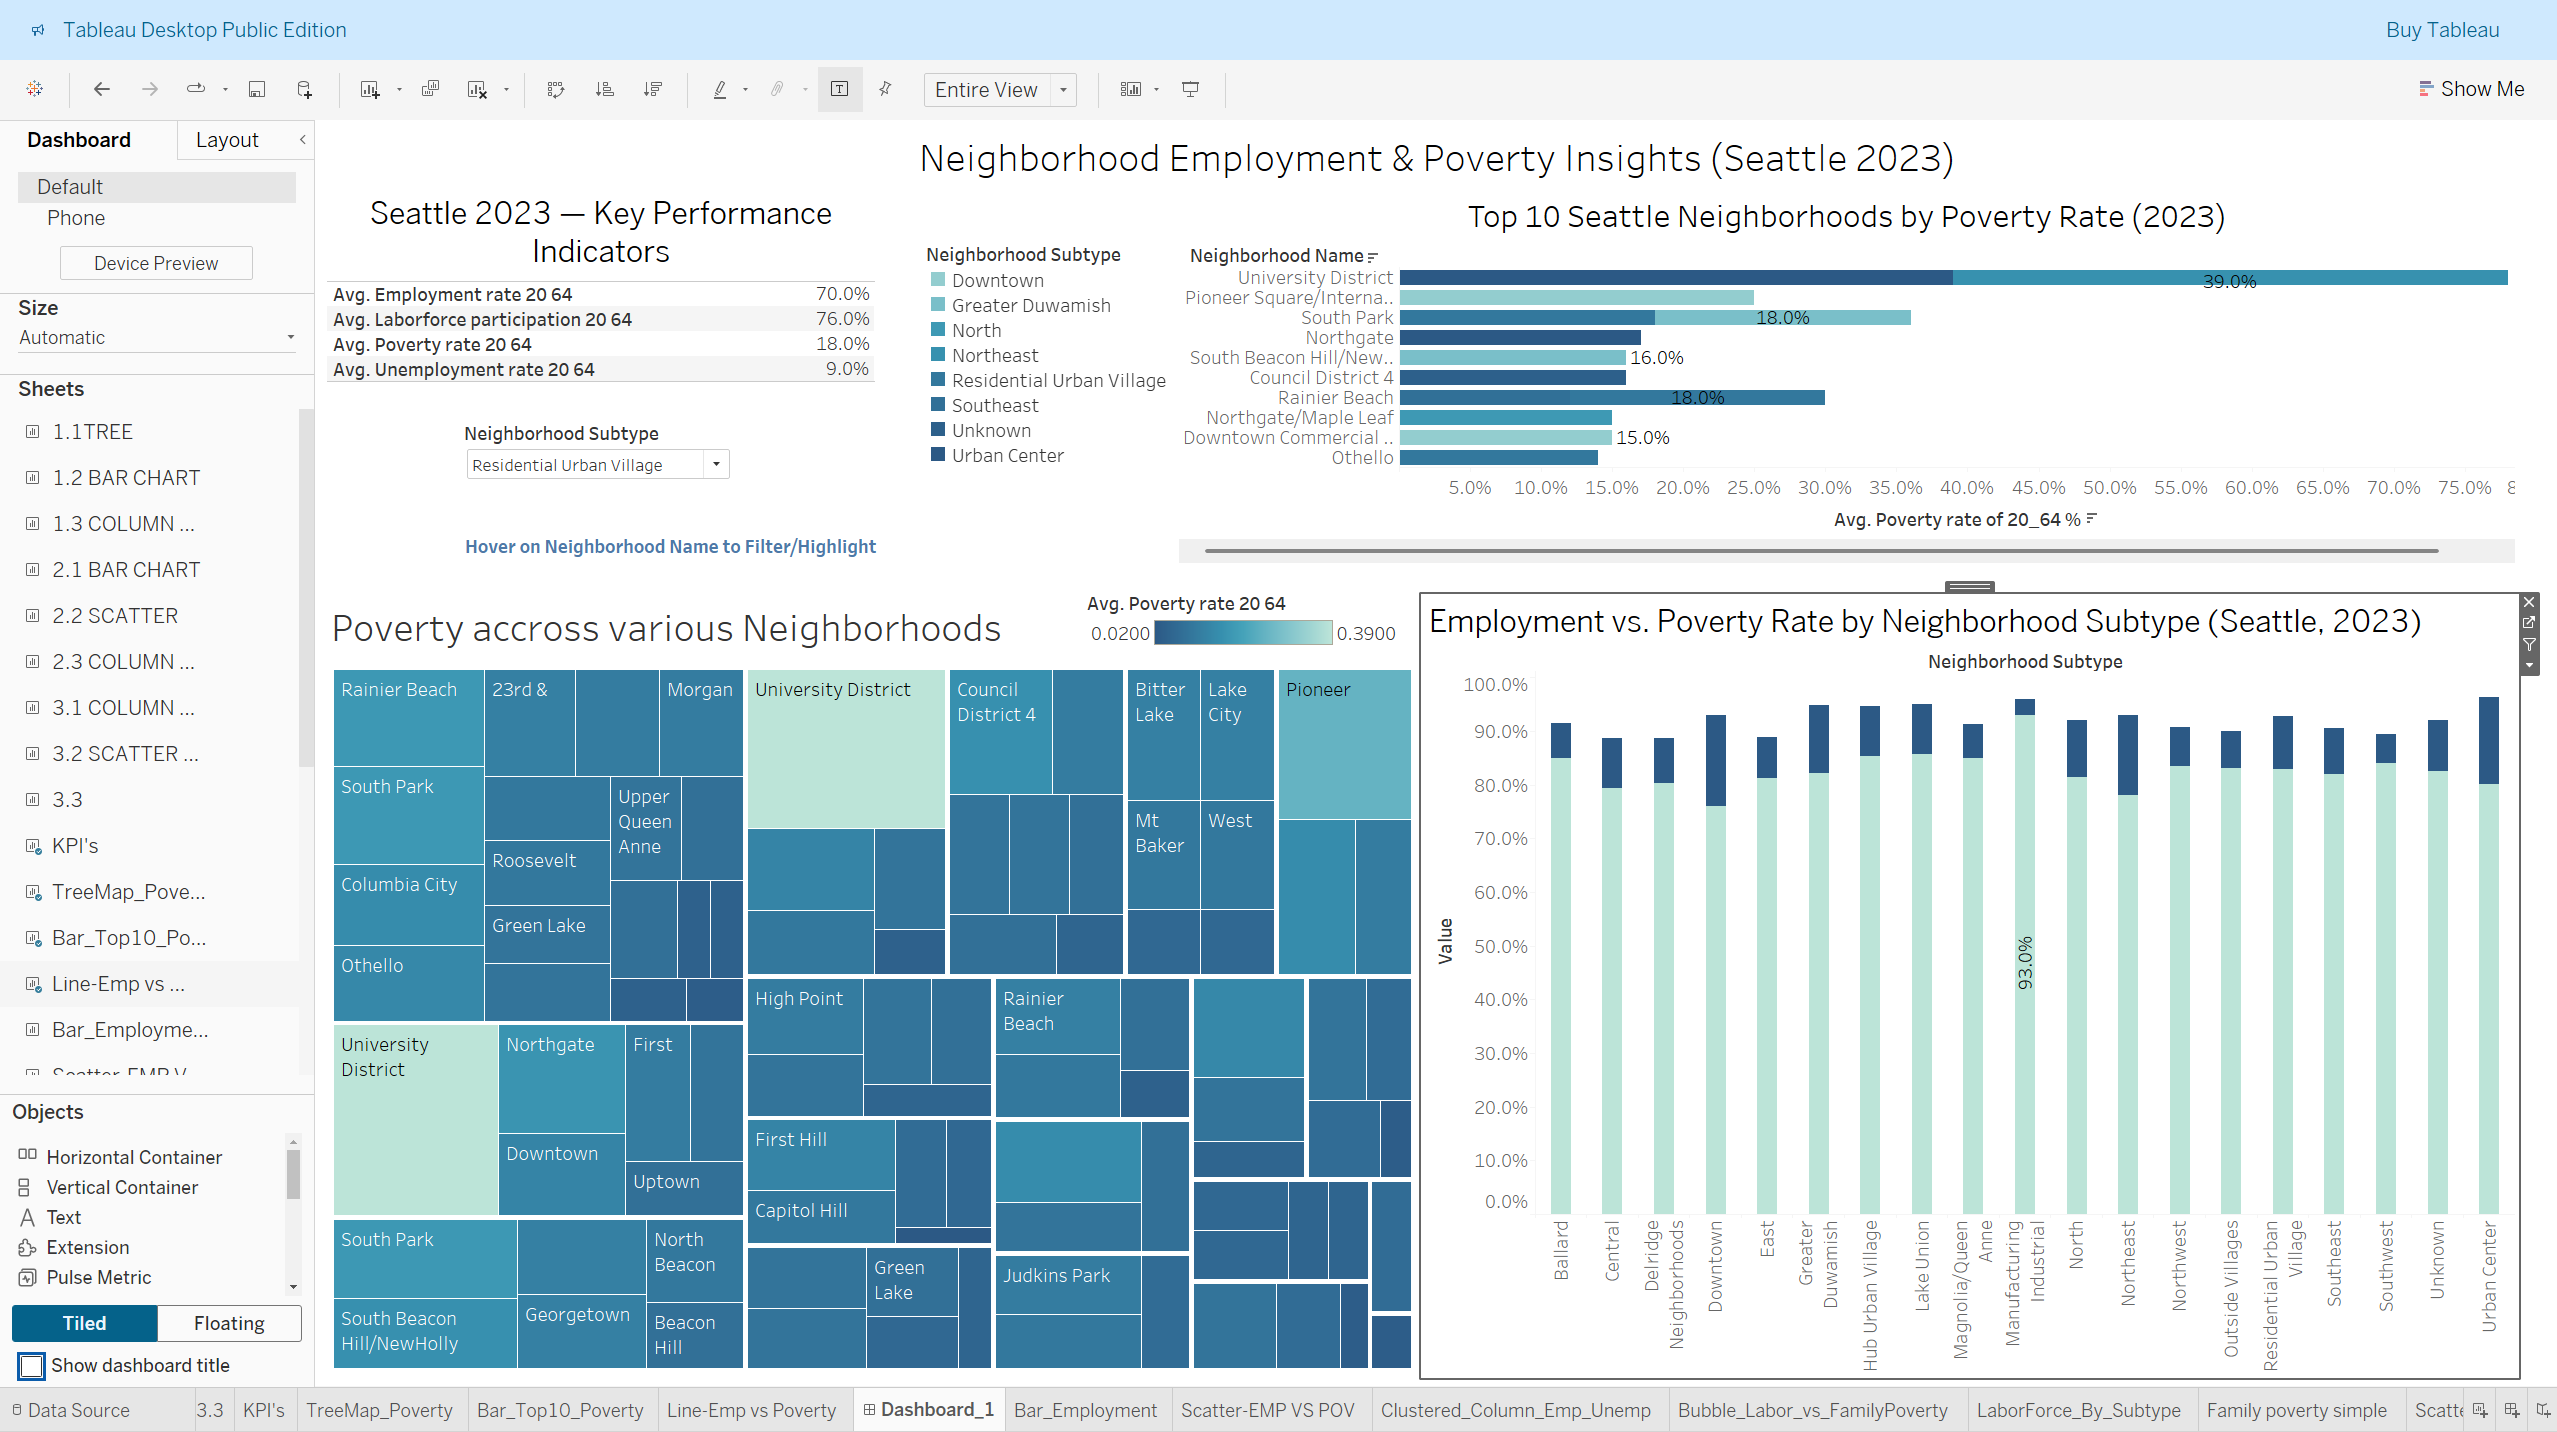

This screenshot's page, from the dashboard's own definition file:
{"tool":"tableau","page":{"name":"Dashboard_1","canvas":[1000,1000],"units":"permille","ordinal":0},"visuals":[{"type":"title","box":[3.9,6.3,976.6,45.8]},{"type":"worksheet","title":"KPI's","mark":"Text","box":[3.9,52.1,378.8,322.3]},{"type":"worksheet","title":"Bar_Top10_Poverty","mark":"Bar","rows":["Neighborhood Name"],"cols":["Poverty_rate_20_64"],"box":[382.7,52.1,597.8,322.3]},{"type":"legend","title":"Bar_Top10_Poverty","param":"[federated.032xgio0byku2z1ev66fd0881gxh].[none:Neighborhood Subtype:nk]","box":[272.3,95.6,110.4,178.5]},{"type":"filter","title":"KPI's","param":"[federated.032xgio0byku2z1ev66fd0881gxh].[none:Neighborhood Subtype:nk]","box":[66.4,237,119.8,177.7]},{"type":"text","box":[65,313.6,192,45.8]},{"type":"legend","title":"TreeMap_Poverty","param":"[federated.032xgio0byku2z1ev66fd0881gxh].[avg:Poverty_rate_20_64:qk]","box":[344.1,371.2,140.1,94]},{"type":"worksheet","title":"TreeMap_Poverty","mark":"Automatic","box":[3.9,374.4,488.3,619.3]},{"type":"worksheet","title":"Line-Emp vs Poverty","mark":"Bar","cols":["Neighborhood Subtype"],"box":[492.2,374.4,488.3,619.3]}]}

Visuals, with their boxes on the dashboard's canvas, which has no fixed pixel size, in thousandths of its width and height (x1, y1, x2, y2). These are canvas units, not pixel positions in the 2557x1432 screenshot, which may show the page scaled, cropped or inside an application window:
title: crop(4, 6, 980, 52)
"KPI's" worksheet (Text marks): crop(4, 52, 383, 374)
"Bar_Top10_Poverty" worksheet (Bar marks): crop(383, 52, 980, 374)
"Bar_Top10_Poverty" legend: crop(272, 96, 383, 274)
"KPI's" filter: crop(66, 237, 186, 415)
text: crop(65, 314, 257, 359)
"TreeMap_Poverty" legend: crop(344, 371, 484, 465)
"TreeMap_Poverty" worksheet: crop(4, 374, 492, 994)
"Line-Emp vs Poverty" worksheet (Bar marks): crop(492, 374, 980, 994)
